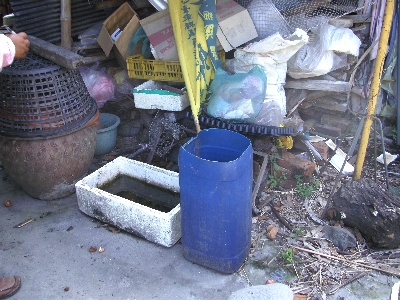bowl: (1, 111, 100, 200), (96, 112, 120, 154)
box: (96, 2, 139, 68), (140, 8, 182, 59), (216, 1, 258, 51)
bucket: (178, 128, 253, 274)
plastic_bag: (236, 41, 286, 124), (283, 28, 356, 78), (209, 68, 268, 120)
styrofoam: (75, 156, 180, 247), (131, 79, 188, 111)
